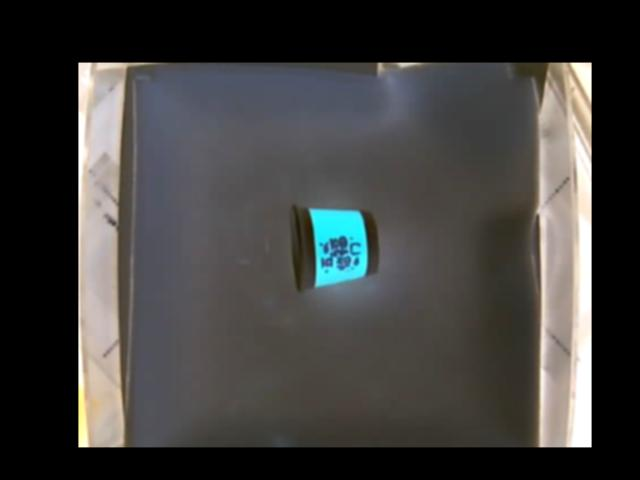Cup: (287, 205, 381, 288)
